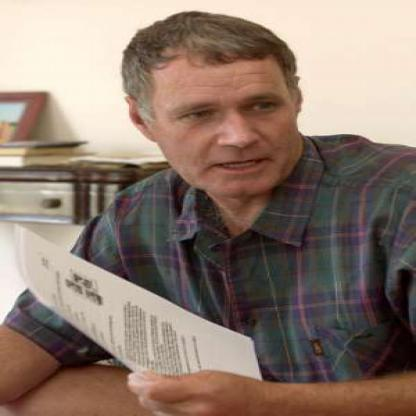face: (148, 18, 302, 202)
